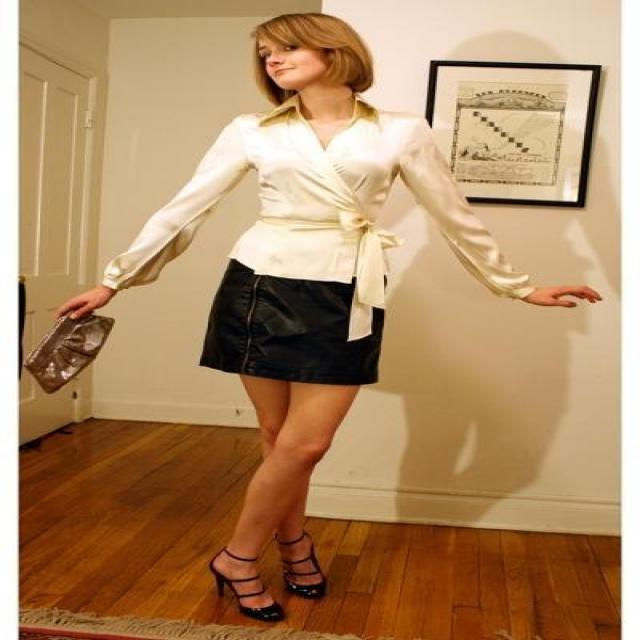bag: (19, 294, 115, 392)
shirt: (98, 117, 536, 340)
shoe: (250, 560, 338, 623)
